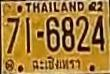1: (25, 17, 30, 51)
2: (76, 16, 91, 52)
4: (91, 15, 104, 51)
6: (46, 16, 59, 51)
7: (6, 16, 20, 52)
8: (61, 16, 74, 51)
CCO: (30, 56, 82, 71)
